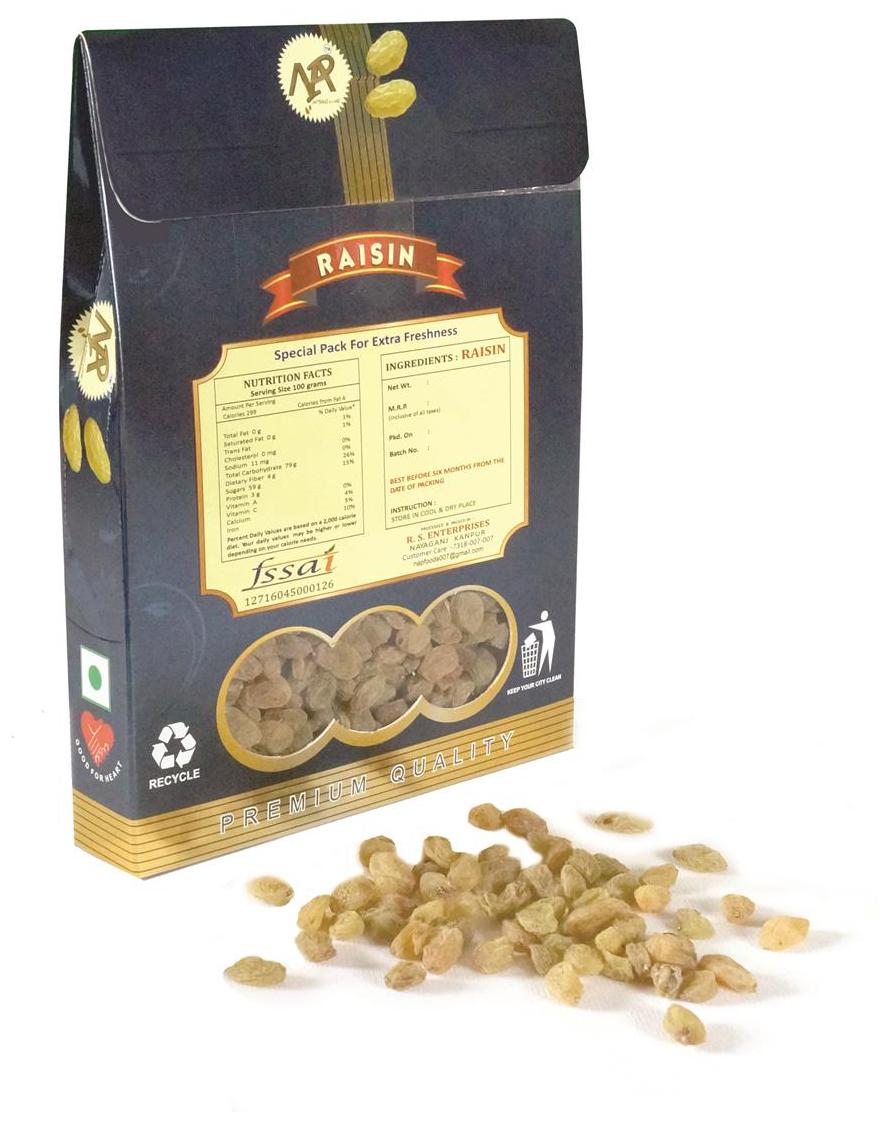fssai: (241, 545, 337, 590)
